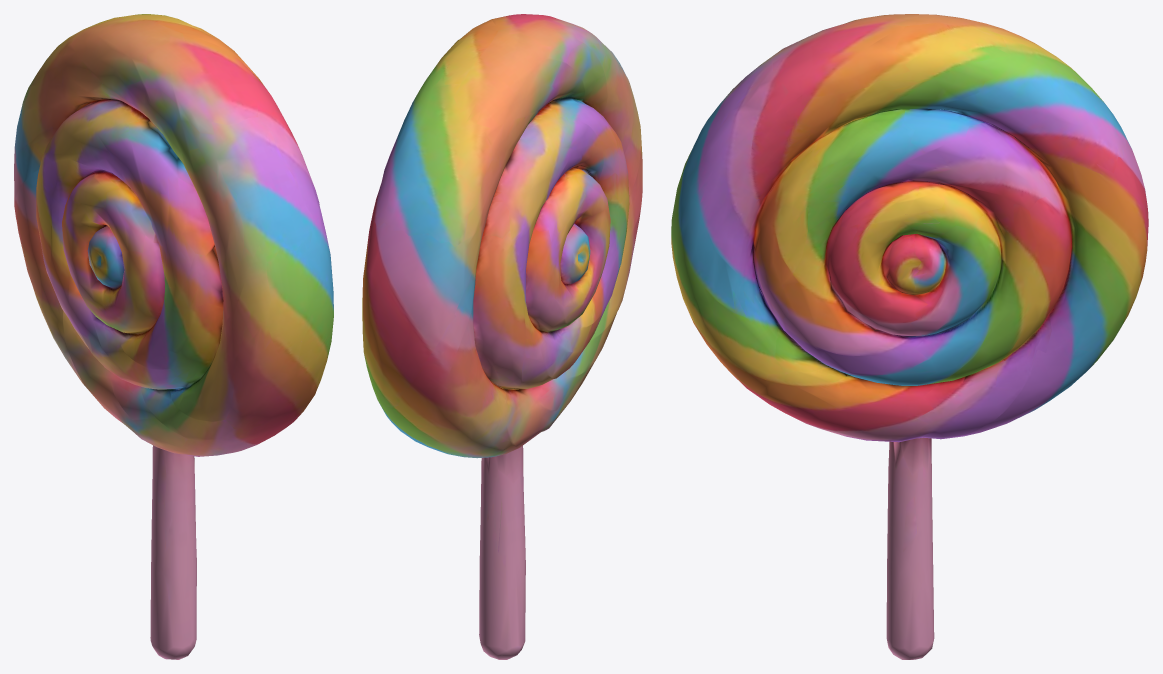
Rendered from food_candy.glb.
3 views of the same model, side by side, from view 1: azimuth 30°, elevation 25°; view 2: azimuth 150°, elevation 25°; view 3: azimuth 270°, elevation 25° (orthographic).
Visible parts, largest first — view 1: tripo_node_5b736753-29d0-4261-83c8-acd6ea807b9a; view 2: tripo_node_5b736753-29d0-4261-83c8-acd6ea807b9a; view 3: tripo_node_5b736753-29d0-4261-83c8-acd6ea807b9a.
Boxes of the visible parts, left/top/right/bottom form: tripo_node_5b736753-29d0-4261-83c8-acd6ea807b9a: left=14, top=14, right=333, bottom=659; tripo_node_5b736753-29d0-4261-83c8-acd6ea807b9a: left=362, top=14, right=642, bottom=659; tripo_node_5b736753-29d0-4261-83c8-acd6ea807b9a: left=671, top=14, right=1148, bottom=659.
Size of the model in its own units: 0.0537 by 0.2 by 0.136.
Materials: 1 (1 with a texture image).
